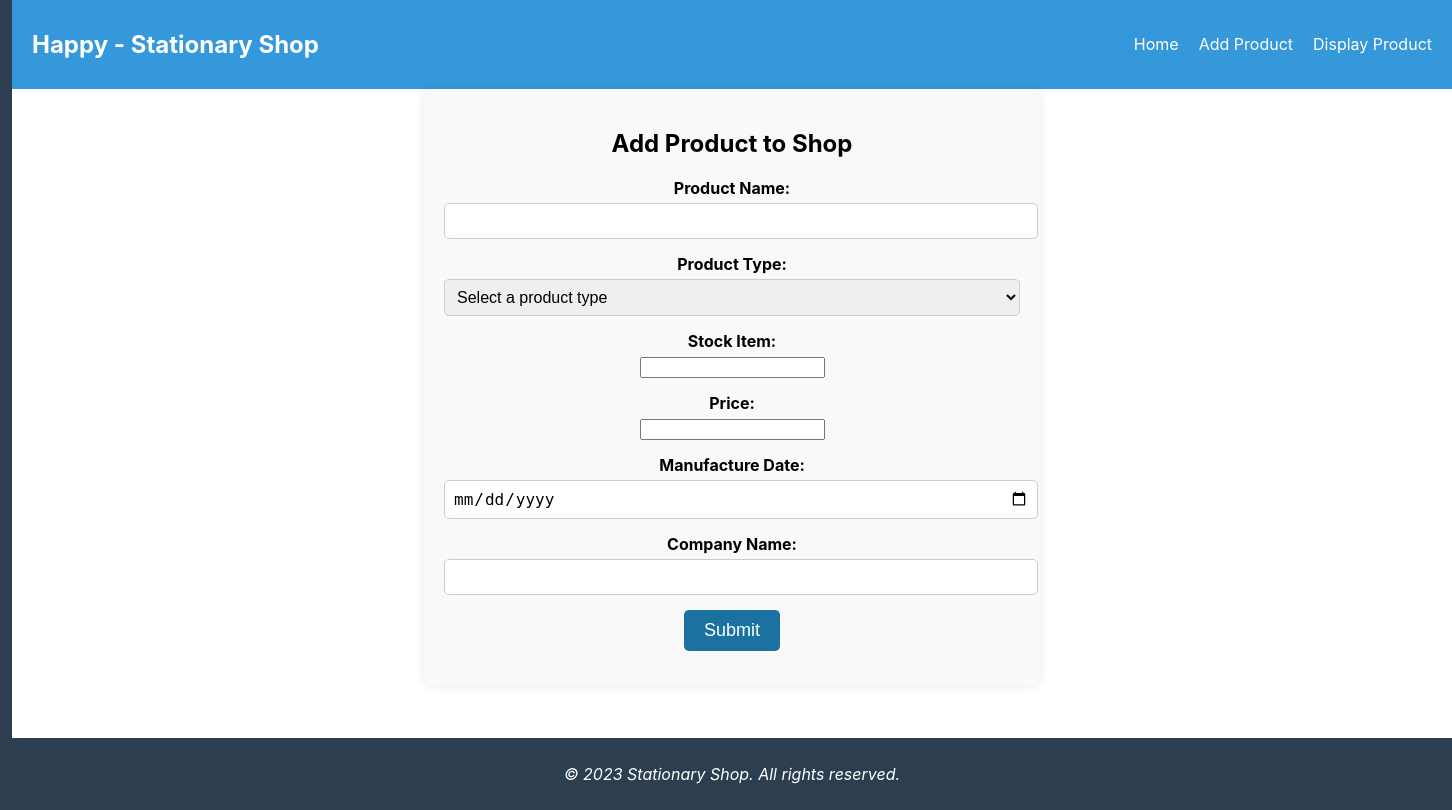
Test: renders_Display_Product_component_title_correctly
Click the link "Display Product" at (1372, 44), box [1313,34,1432,54]
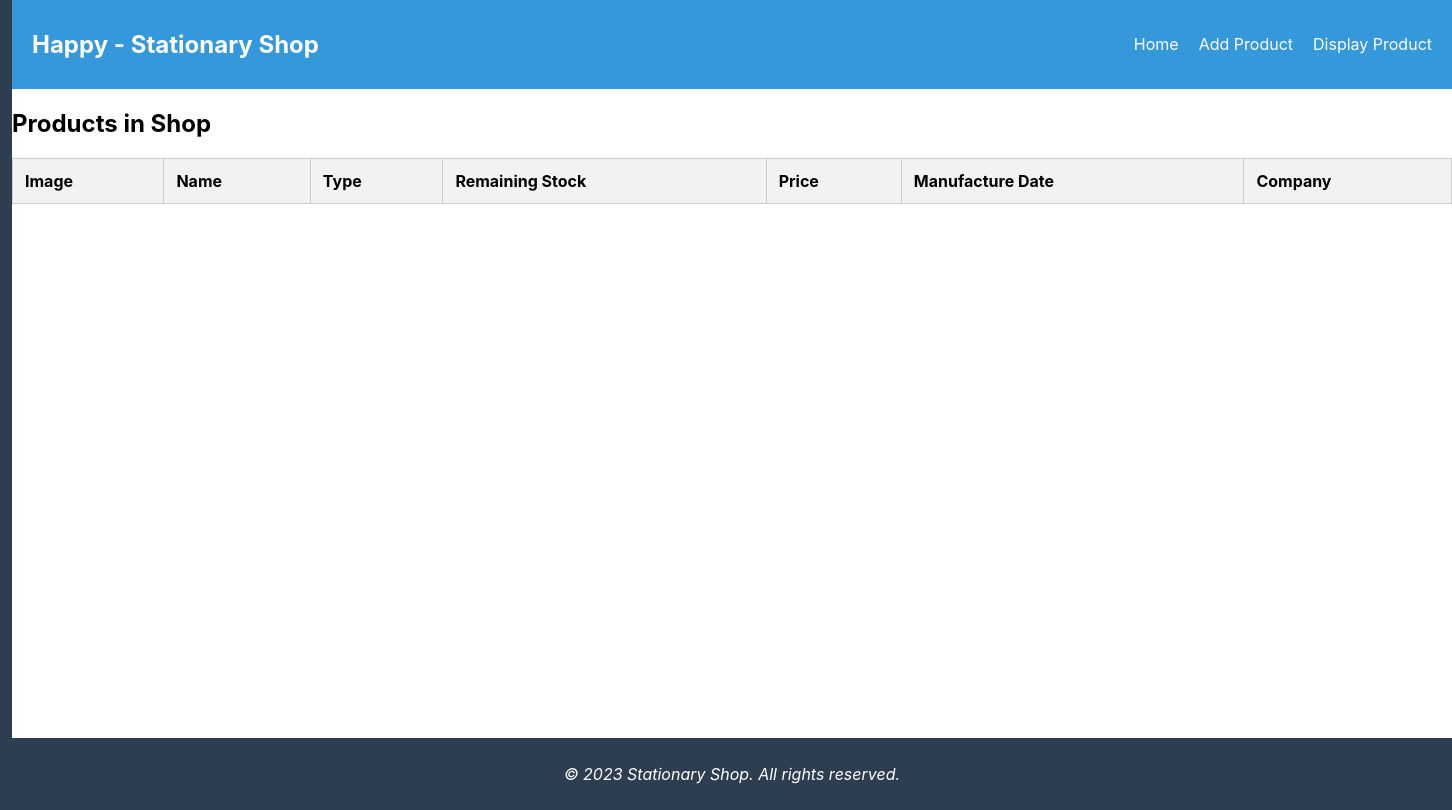
Expected: the heading "Products in Shop" is shown, [12,109,211,138]
